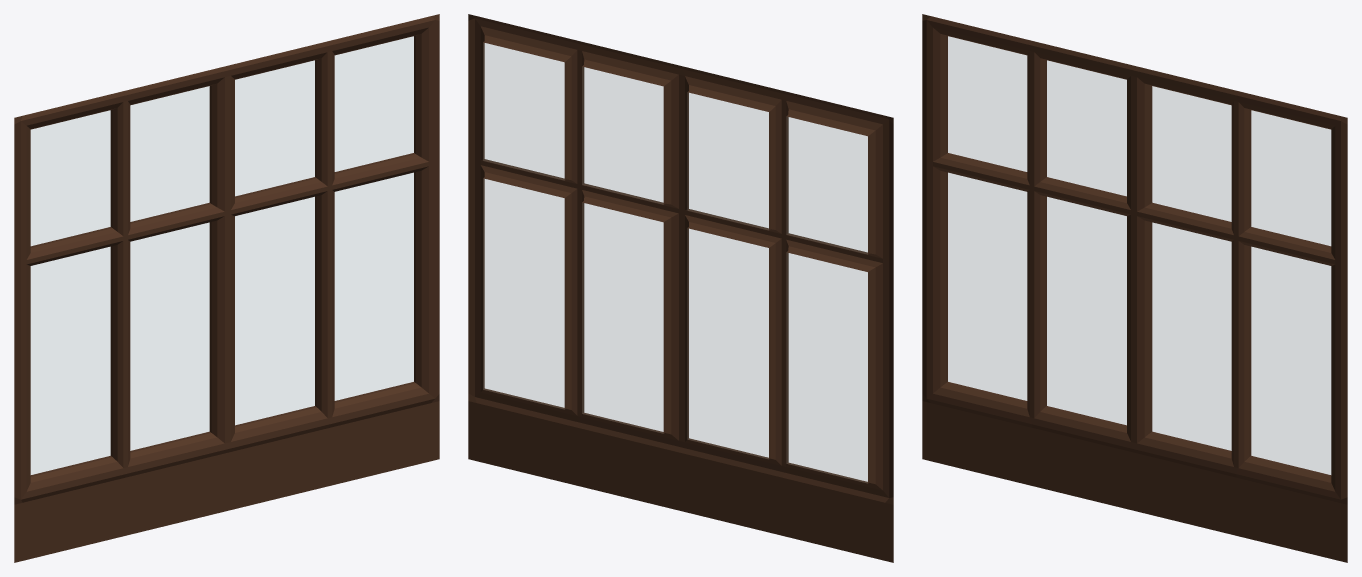
The model's file is window_01.fbx.
3 views of the same model, side by side, from view 1: azimuth 30°, elevation 25°; view 2: azimuth 150°, elevation 25°; view 3: azimuth 330°, elevation 25° (orthographic).
Visible parts, largest first — view 1: window_01; view 2: window_01; view 3: window_01.
Boxes of the visible parts, <box> form: window_01: <box>14,14,439,562</box>; window_01: <box>468,14,893,562</box>; window_01: <box>922,14,1347,562</box>.
Bounding box in the file's own units: 4 × 0.1081 × 4.
